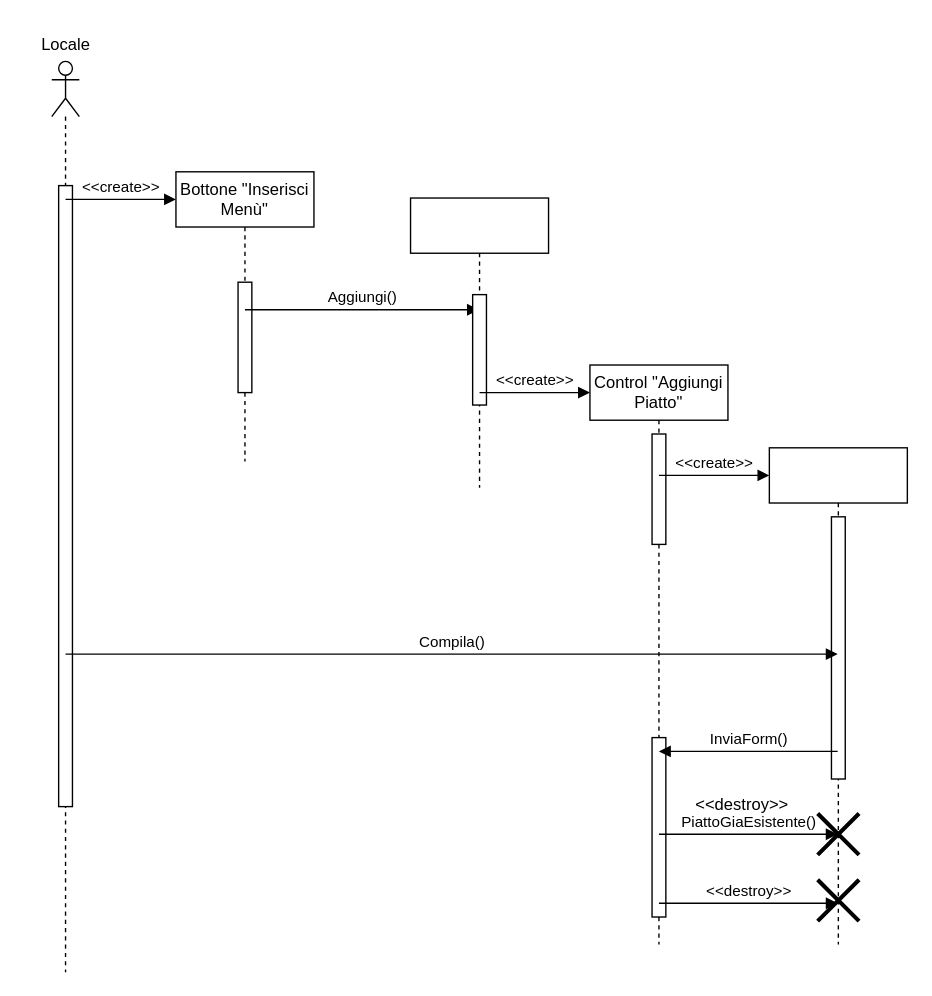
This 932x996 diagram has some shape labels left out. The box of each missing label's shape, as (x1, y1, x2, y2) in pixels:
Bottone "Aggiungi Piatto": (409, 197, 549, 488)
Form "Aggiungi Piatto": (768, 446, 907, 945)
